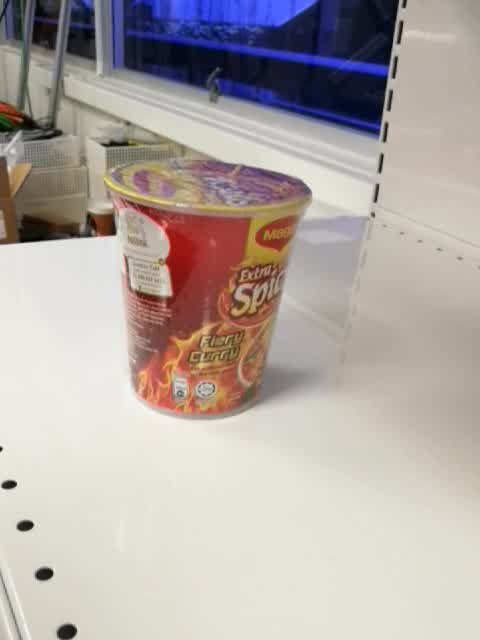maggi: (104, 158, 312, 421)
